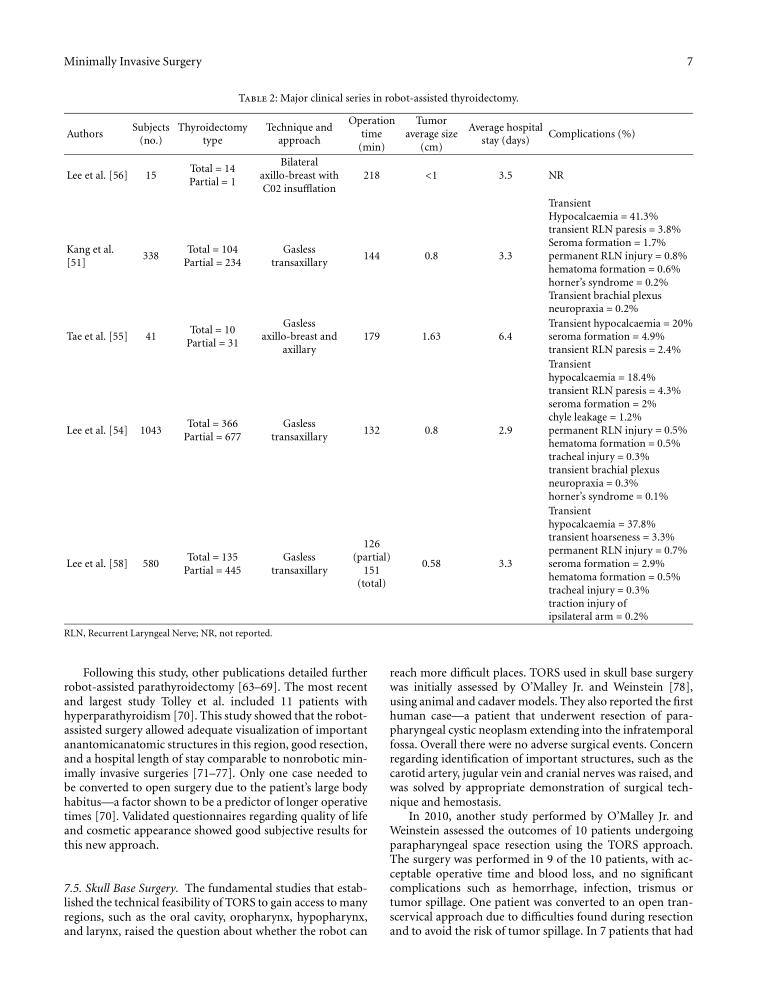table: (66, 114, 692, 622)
